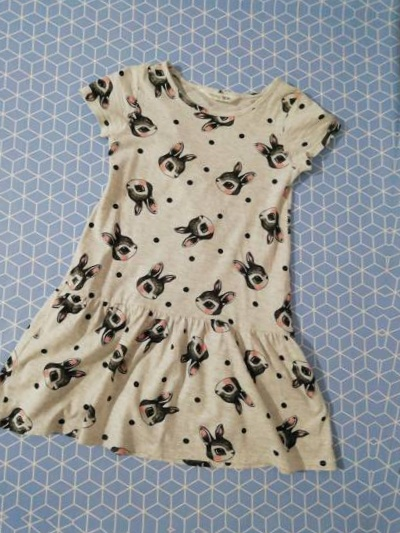Dress: (0, 35, 385, 487), (388, 67, 400, 519)
